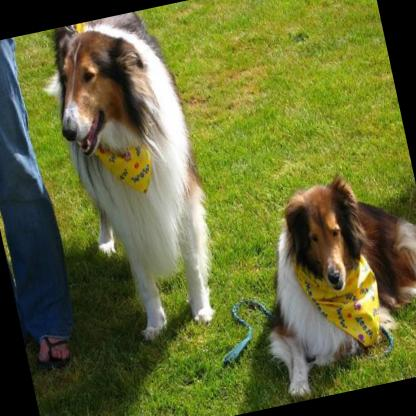collie: (33, 4, 238, 358), (233, 155, 416, 402)
